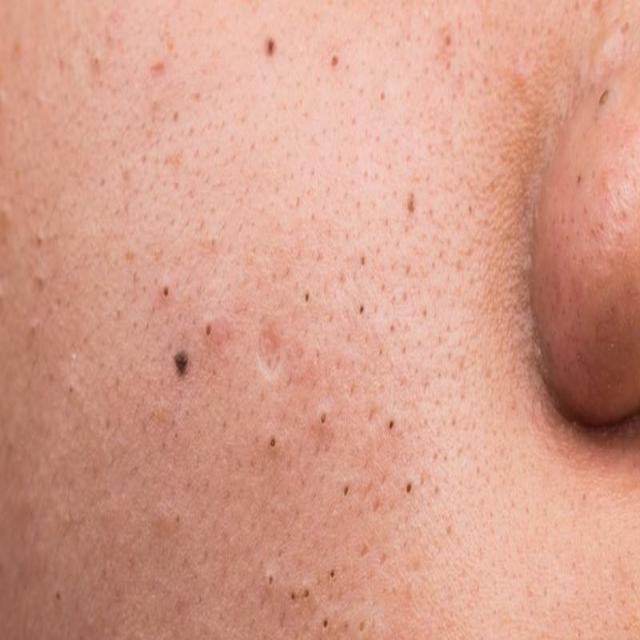blackhead: (620, 21, 630, 35), (599, 90, 608, 104), (575, 172, 583, 186), (445, 36, 451, 48), (205, 326, 212, 336), (320, 414, 326, 424), (406, 484, 412, 494), (163, 287, 168, 297), (332, 57, 337, 67), (380, 92, 385, 102), (270, 439, 275, 448), (359, 306, 364, 315), (304, 589, 309, 598), (269, 575, 273, 586), (305, 294, 309, 304), (389, 421, 394, 429), (330, 570, 335, 578), (323, 620, 328, 628), (361, 257, 365, 266), (344, 487, 348, 496), (291, 592, 295, 600), (69, 386, 73, 394), (56, 592, 60, 600), (176, 516, 180, 522)
